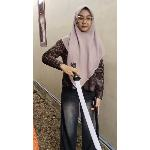Pedang: (69, 61, 104, 150)
